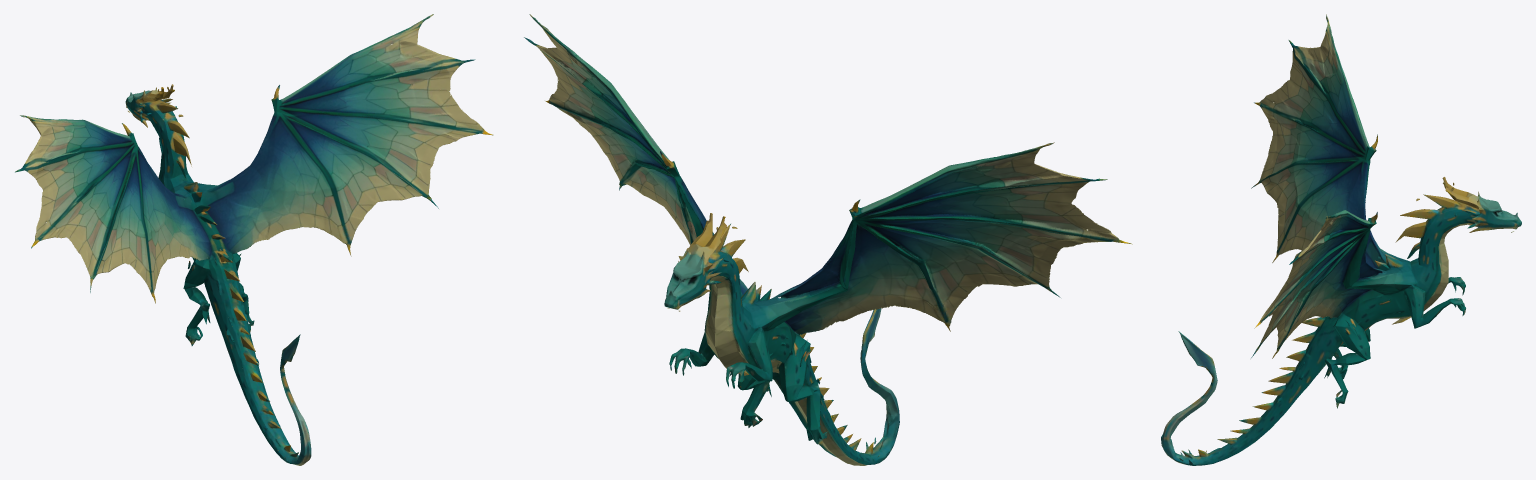
The model's file is asset.glb.
3 views of the same model, side by side, from view 1: azimuth 30°, elevation 25°; view 2: azimuth 150°, elevation 25°; view 3: azimuth 270°, elevation 25° (orthographic). The views are drawn at different scales.
Visible parts, largest first — view 1: tripo_node_5940d472-e0b5-4709-a7d6-bfebddfe292e; view 2: tripo_node_5940d472-e0b5-4709-a7d6-bfebddfe292e; view 3: tripo_node_5940d472-e0b5-4709-a7d6-bfebddfe292e.
Boxes of the visible parts, bbox=[...] form: tripo_node_5940d472-e0b5-4709-a7d6-bfebddfe292e: bbox=[15, 14, 493, 465]; tripo_node_5940d472-e0b5-4709-a7d6-bfebddfe292e: bbox=[524, 14, 1132, 465]; tripo_node_5940d472-e0b5-4709-a7d6-bfebddfe292e: bbox=[1161, 14, 1521, 465].
Bounding box in the file's own units: 0.9999 × 0.7208 × 0.6734.
1 material, 1 textured.
